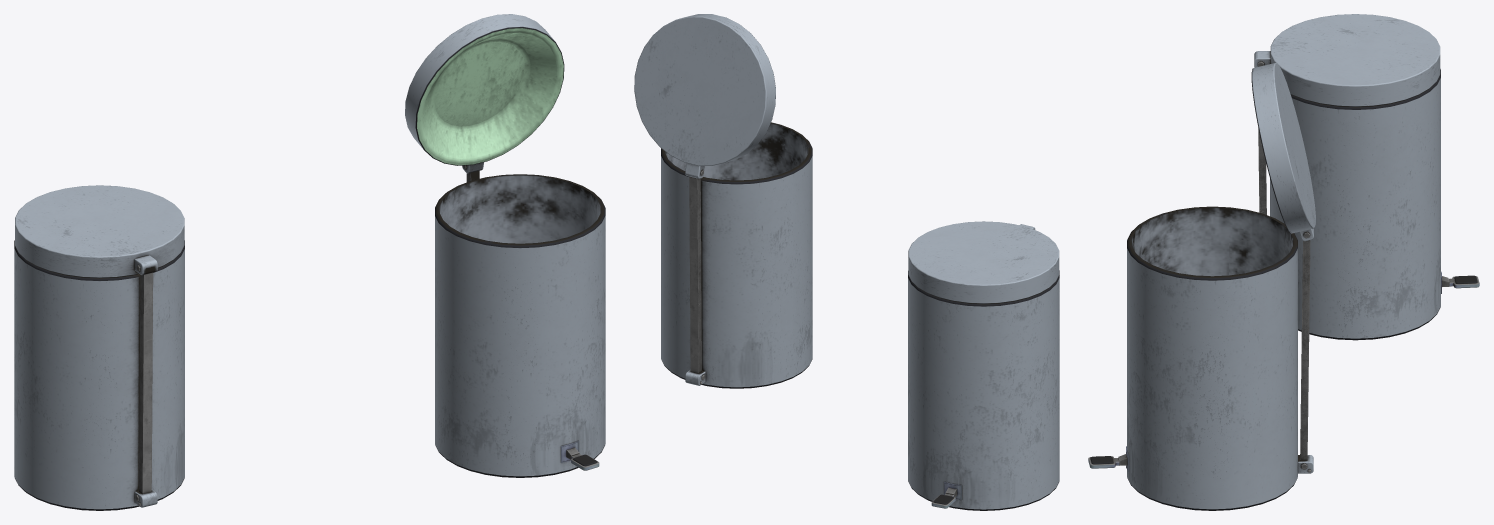
Rendered from trash_bin.glb.
3 renders of one model, left to right at view 1: azimuth 30°, elevation 25°; view 2: azimuth 150°, elevation 25°; view 3: azimuth 270°, elevation 25°, orthographic. The views are drawn at different scales.
Visible parts, largest first — view 1: Base_2, Base, Door_2, Door; view 2: Base_2, Base, Door_2, Door; view 3: Base_2, Base, Door, Door_2.
Boxes of the visible parts, x1,y1,x2,y2 form: Base_2: [435, 171, 605, 477]; Base: [14, 240, 184, 510]; Door_2: [405, 14, 564, 173]; Door: [15, 185, 184, 278]; Base_2: [661, 122, 812, 388]; Base: [908, 270, 1059, 510]; Door_2: [634, 14, 775, 178]; Door: [908, 221, 1059, 303]; Base_2: [1088, 206, 1313, 510]; Base: [1258, 69, 1479, 340]; Door: [1254, 14, 1440, 106]; Door_2: [1251, 62, 1315, 241].
Size of the model in its own units: 3.35 by 2.6 by 2.28.
1 material, 1 textured.
